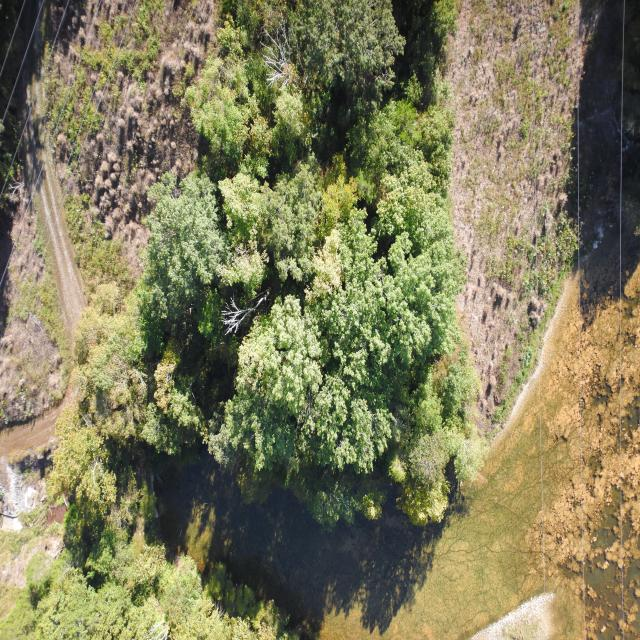Area of Interest: (118, 10, 445, 496), (34, 492, 280, 633)
